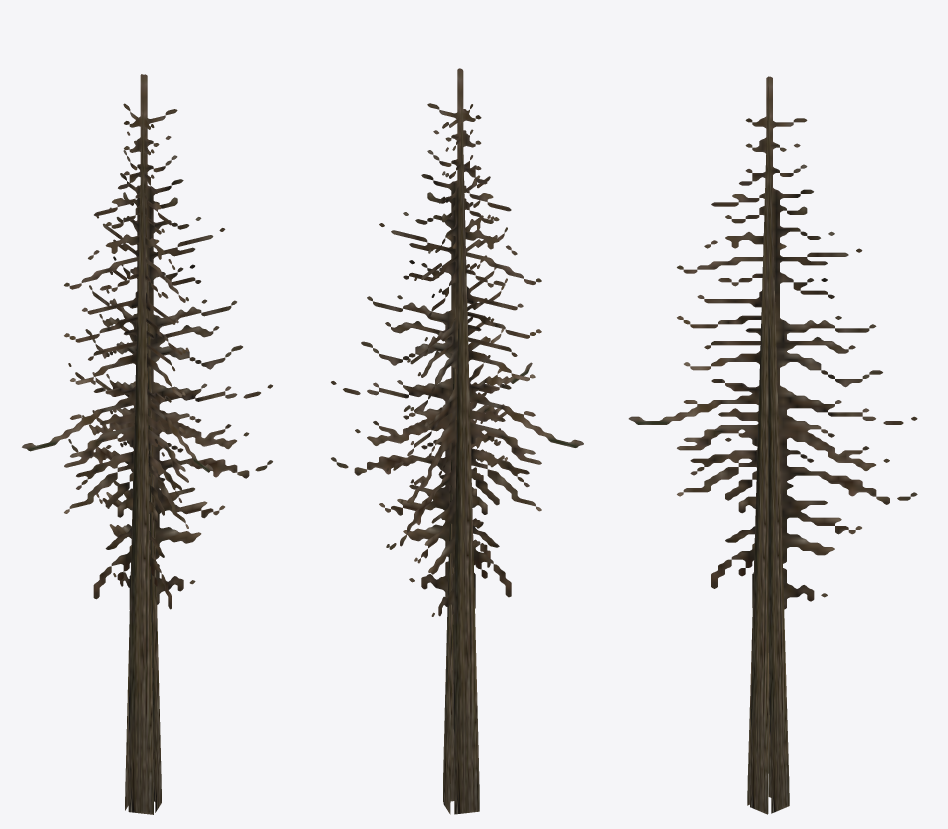
Rendered from pine2dead.glb.
3 views of the same model, side by side, from view 1: azimuth 30°, elevation 25°; view 2: azimuth 150°, elevation 25°; view 3: azimuth 270°, elevation 25° (orthographic).
Parts seen in each view (by area): view 1: Pine2dead; view 2: Pine2dead; view 3: Pine2dead.
Part boxes in pixels (x1,y1,x2,y2): Pine2dead: [22, 74, 272, 814]; Pine2dead: [331, 68, 583, 814]; Pine2dead: [628, 76, 917, 814].
Bounding box in the file's own units: 6.52 × 16.75 × 6.52.
1 material, 1 textured.
